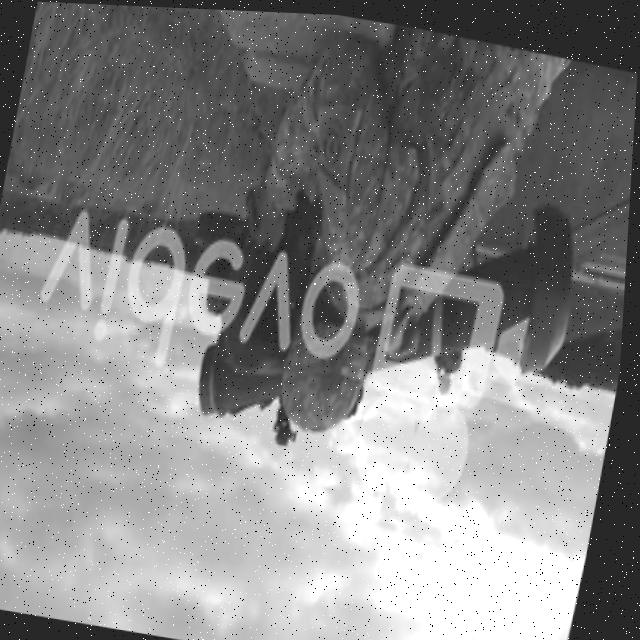rocket: (199, 163, 587, 480)
